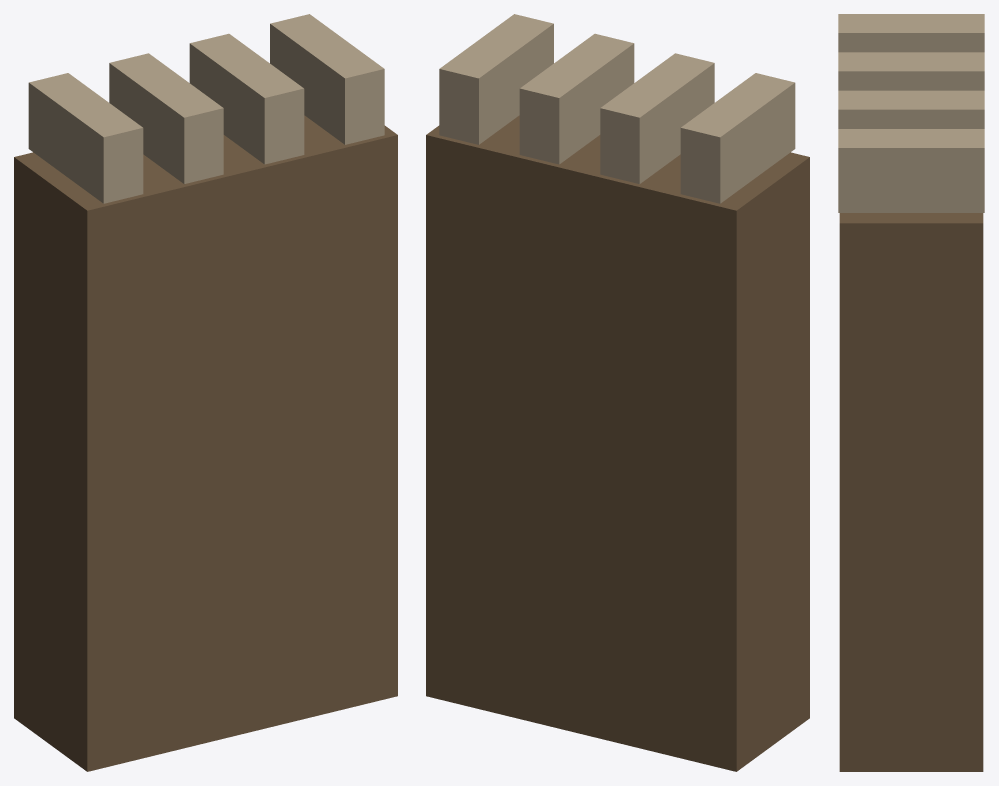
File: b-palisade-castilian.glb
3 views of the same model, side by side, from view 1: azimuth 30°, elevation 25°; view 2: azimuth 150°, elevation 25°; view 3: azimuth 270°, elevation 25° (orthographic). The views are drawn at different scales.
Parts seen in each view (by area): view 1: Structure; view 2: Structure; view 3: Structure.
Boxes of the visible parts, bbox=[...] form: Structure: bbox=[14, 14, 397, 771]; Structure: bbox=[426, 14, 809, 771]; Structure: bbox=[838, 14, 984, 771].
Bounding box in the file's own units: 2.2 × 4.28 × 0.92.
